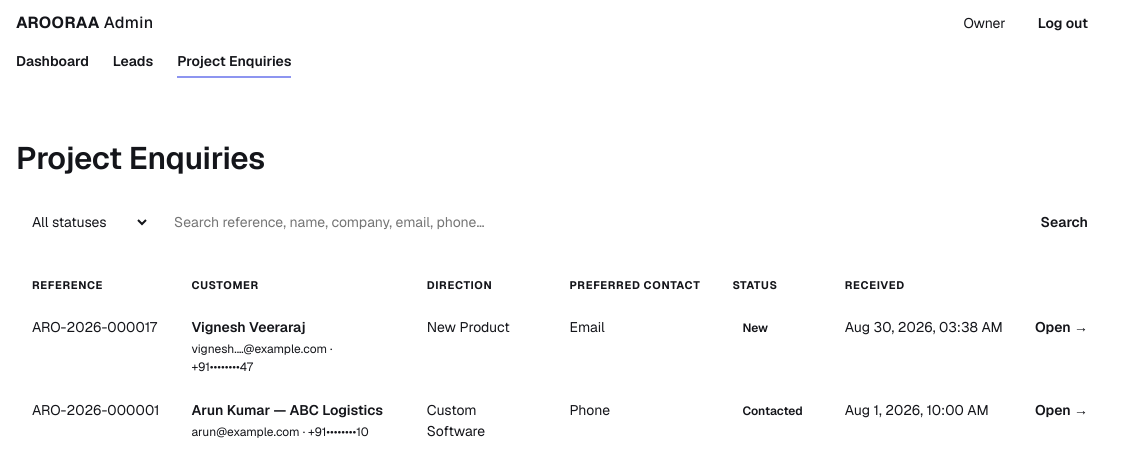
Scenario: AdminProjectEnquiriesPage › searches by reference number
Expected: the text "ARO-2026-000017" is shown, [16,305,176,388]
Type "ARO-2026-000017" into the search field named "Search project enquiries" at x=589, y=222, box [162,204,1017,240]
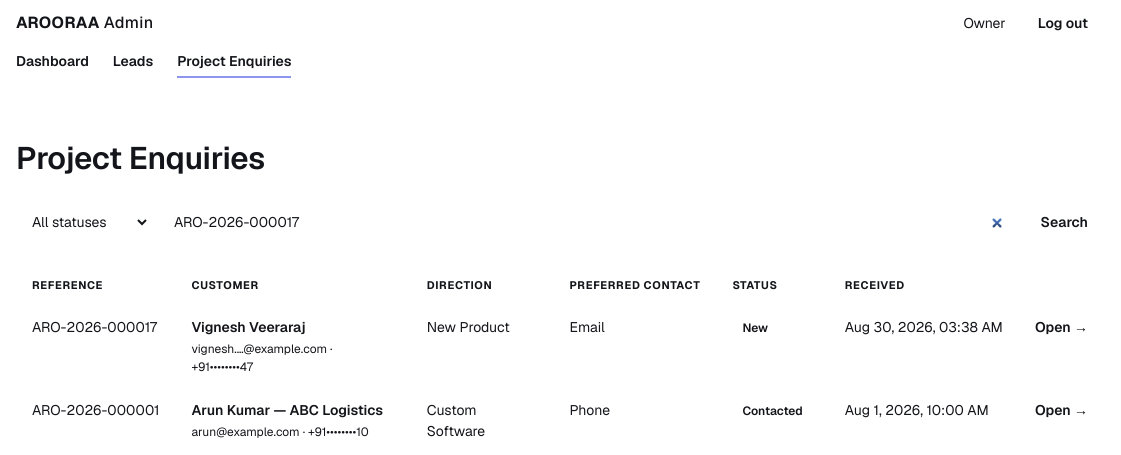
Click the button "Search" at x=1064, y=222, box [1025,204,1104,240]
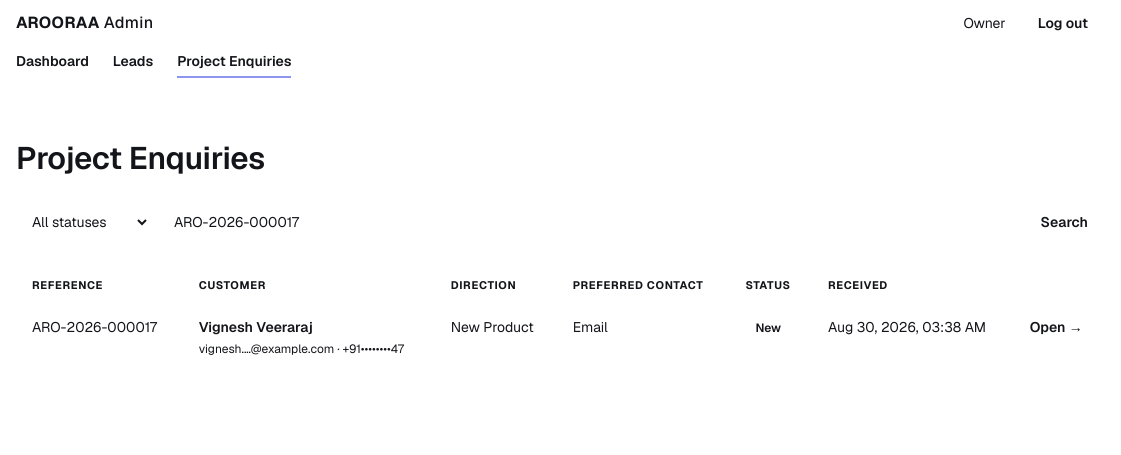
Expected: the text "Vignesh Veeraraj" is shown, [199,318,313,336]
Expected: the text "Arun Kumar" is gone
